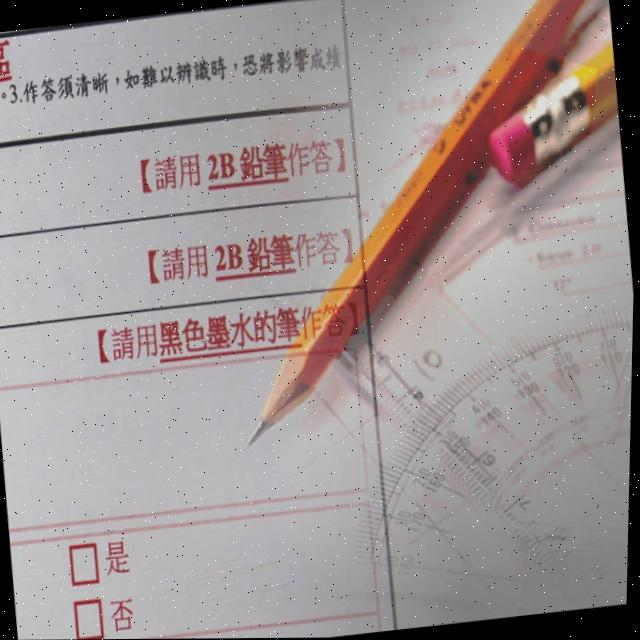pencil: (243, 0, 586, 457), (485, 35, 618, 203)
